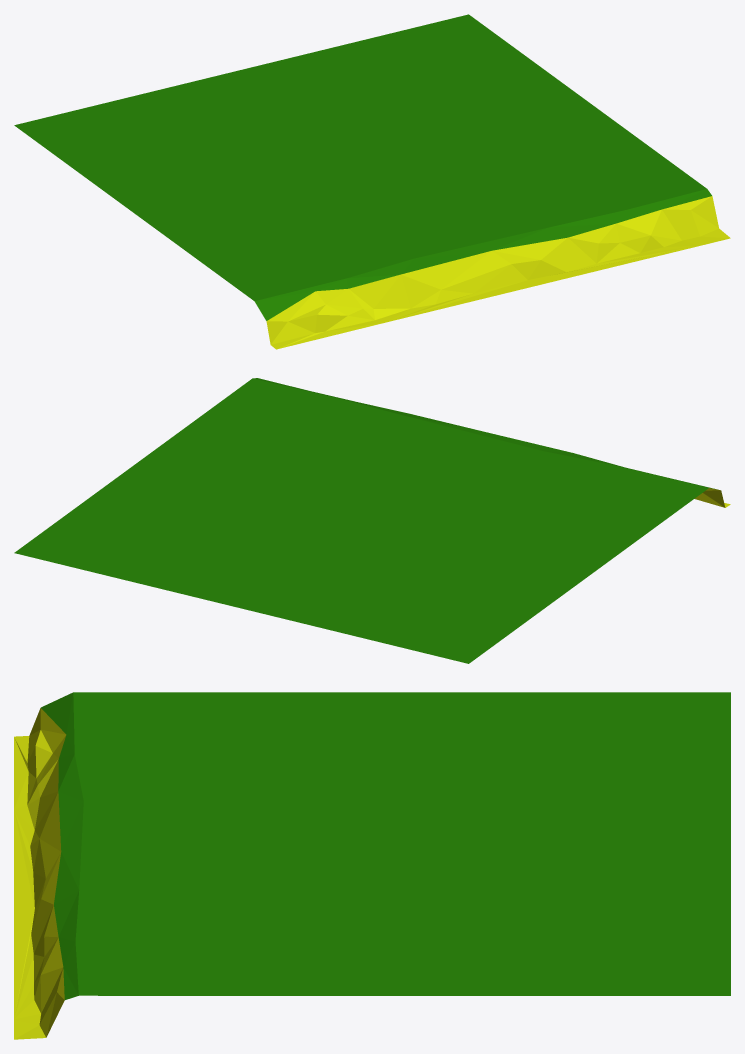
The picture shows the model from 3 angles, top to bottom: view 1: azimuth 30°, elevation 25°; view 2: azimuth 150°, elevation 25°; view 3: azimuth 270°, elevation 25°; orthographic projection. The views are drawn at different scales.
Parts seen in each view (by area): view 1: TerrainVeryHigh.015; view 2: TerrainVeryHigh.015; view 3: TerrainVeryHigh.015.
Part boxes in pixels (x1=…): TerrainVeryHigh.015: x1=14, y1=14, x2=730, y2=349; TerrainVeryHigh.015: x1=14, y1=378, x2=730, y2=663; TerrainVeryHigh.015: x1=14, y1=692, x2=730, y2=1039.
Bounding box in the file's own units: 1251 × 1249 × 85.2.
